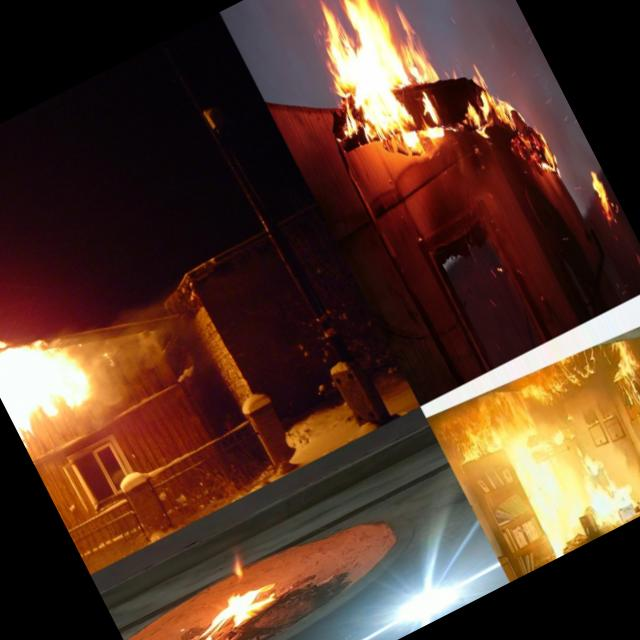fire: (285, 0, 469, 183), (433, 350, 614, 484), (0, 253, 113, 440), (127, 575, 289, 640), (566, 439, 640, 530), (495, 86, 563, 182), (438, 58, 509, 144), (572, 151, 634, 244)
